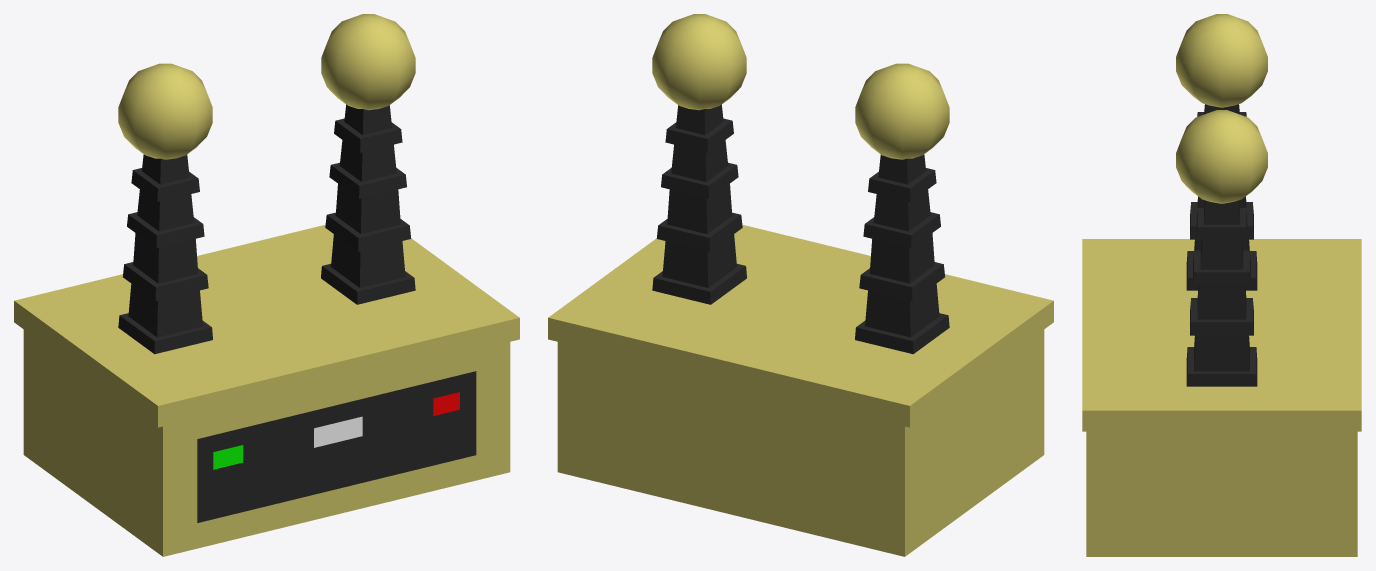
File: ScienceMachine_01.fbx
3 views of the same model, side by side, from view 1: azimuth 30°, elevation 25°; view 2: azimuth 150°, elevation 25°; view 3: azimuth 270°, elevation 25° (orthographic). The views are drawn at different scales.
Visible parts, largest first — view 1: ScienceMachine_01; view 2: ScienceMachine_01; view 3: ScienceMachine_01.
Boxes of the visible parts, box(x1,y1,x2,y2) form: ScienceMachine_01: box(14, 14, 519, 556); ScienceMachine_01: box(548, 14, 1053, 556); ScienceMachine_01: box(1082, 14, 1361, 556).
Size of the model in its own units: 270 by 301 by 186.
